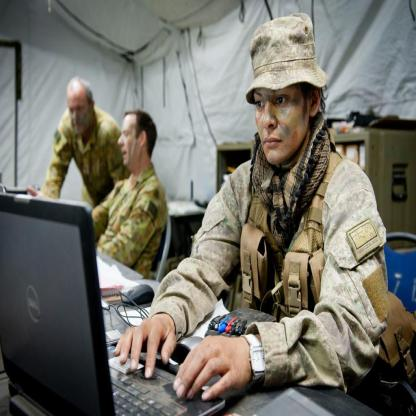board: (0, 192, 224, 416), (101, 297, 132, 347)
